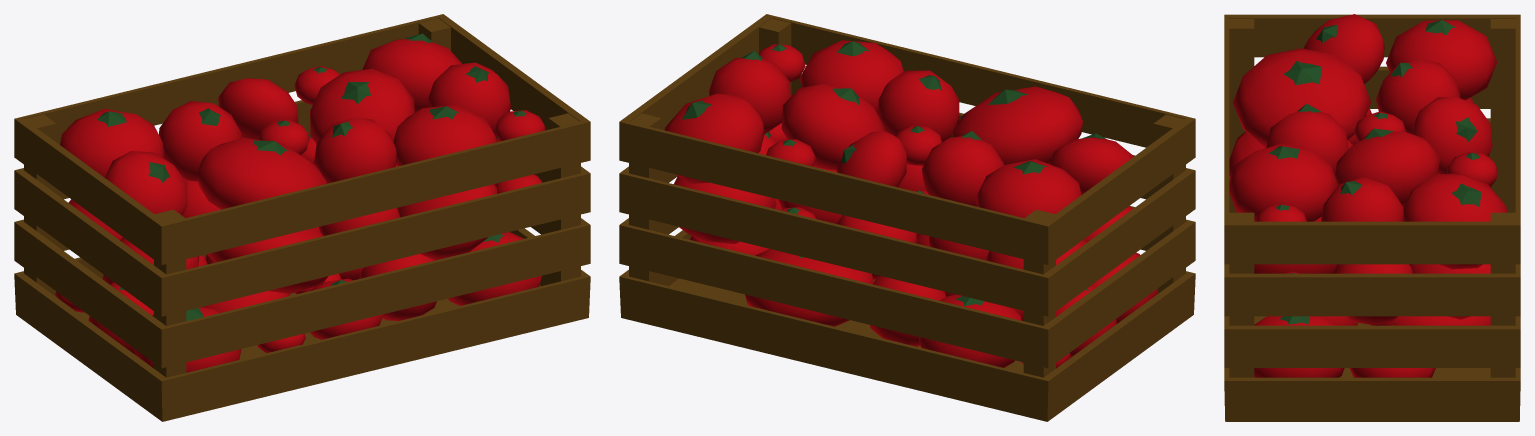
Rendered from tomato.fbx.
3 views of the same model, side by side, from view 1: azimuth 30°, elevation 25°; view 2: azimuth 150°, elevation 25°; view 3: azimuth 270°, elevation 25° (orthographic).
Parts seen in each view (by area): view 1: Cube, Icosphere.030, Icosphere.029, Icosphere.028, Icosphere.033, Icosphere.031, Icosphere.034, Icosphere.026, Icosphere.038, Icosphere.027, Icosphere.035, Icosphere.015 (+12 smaller); view 2: Cube, Icosphere.030, Icosphere.029, Icosphere.033, Icosphere.031, Icosphere.028, Icosphere.026, Icosphere.034, Icosphere.027, Icosphere.035, Icosphere.038, Icosphere.004 (+11 smaller); view 3: Cube, Icosphere.030, Icosphere.028, Icosphere.033, Icosphere.029, Icosphere.026, Icosphere.035, Icosphere.034, Icosphere.038, Icosphere.031, Icosphere.027, Icosphere.007 (+9 smaller).
Boxes of the visible parts, x1,y1,x2,y2 form: Cube: [14, 14, 590, 421]; Icosphere.030: [197, 138, 326, 209]; Icosphere.029: [310, 68, 414, 143]; Icosphere.028: [393, 105, 497, 166]; Icosphere.033: [60, 109, 164, 177]; Icosphere.031: [314, 117, 396, 183]; Icosphere.034: [159, 101, 241, 181]; Icosphere.026: [362, 33, 461, 112]; Icosphere.038: [104, 151, 187, 215]; Icosphere.027: [428, 62, 510, 134]; Icosphere.035: [218, 78, 298, 139]; Icosphere.015: [397, 184, 497, 260]; Cube: [619, 14, 1195, 421]; Icosphere.030: [952, 86, 1082, 164]; Icosphere.029: [781, 84, 884, 170]; Icosphere.033: [975, 159, 1081, 217]; Icosphere.031: [878, 70, 959, 142]; Icosphere.028: [799, 40, 903, 114]; Icosphere.026: [664, 93, 764, 183]; Icosphere.034: [922, 131, 1003, 206]; Icosphere.027: [708, 51, 790, 134]; Icosphere.035: [837, 130, 906, 187]; Icosphere.038: [1050, 133, 1133, 194]; Icosphere.004: [745, 249, 873, 326]; Cube: [1224, 14, 1520, 421]; Icosphere.030: [1233, 48, 1371, 148]; Icosphere.028: [1229, 143, 1338, 221]; Icosphere.033: [1386, 20, 1497, 100]; Icosphere.029: [1335, 128, 1440, 208]; Icosphere.026: [1403, 173, 1506, 269]; Icosphere.035: [1412, 97, 1492, 173]; Icosphere.034: [1376, 59, 1460, 134]; Icosphere.038: [1303, 14, 1384, 83]; Icosphere.031: [1266, 103, 1348, 174]; Icosphere.027: [1321, 177, 1403, 221]; Icosphere.007: [1254, 316, 1344, 377].
Size of the model in its own units: 348 by 169 by 207.
